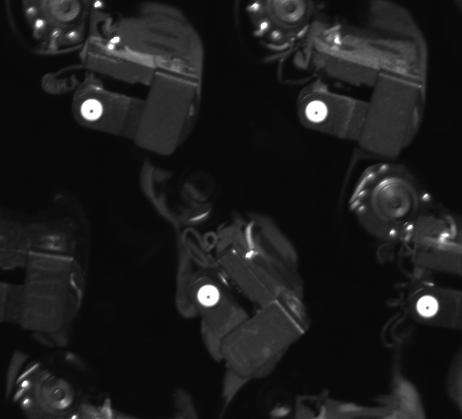fiber: (413, 292, 443, 322), (302, 98, 333, 125), (77, 97, 106, 125), (194, 282, 222, 310)
